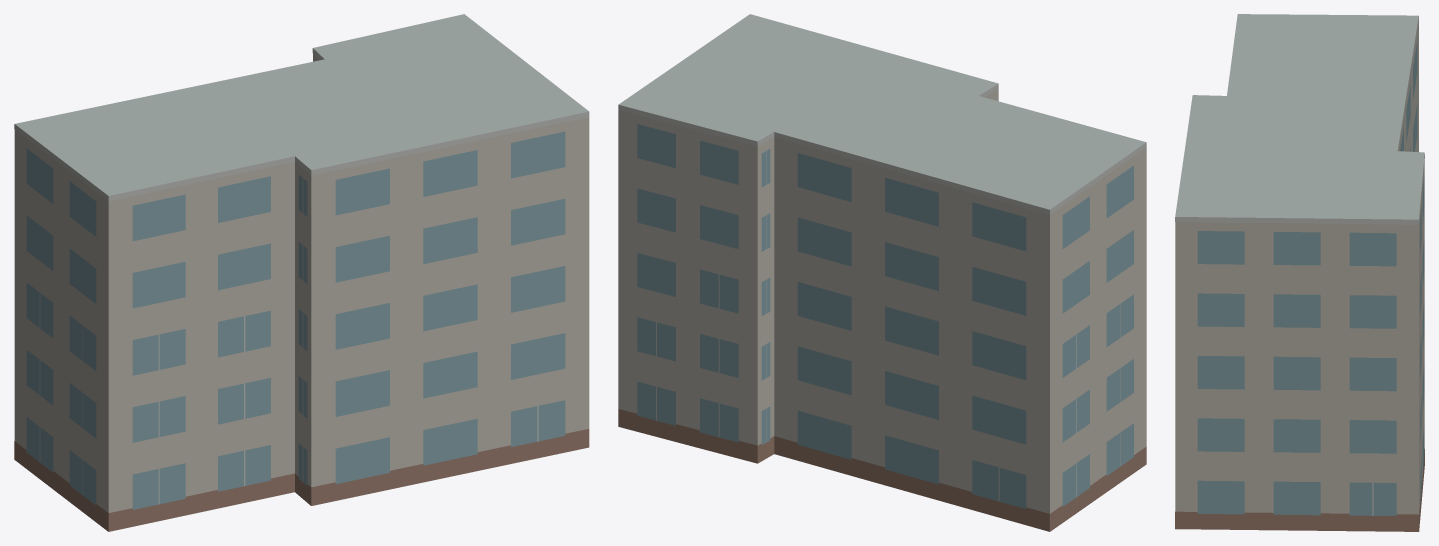
File: survey-upis-32835442.glb
3 views of the same model, side by side, from view 1: azimuth 30°, elevation 25°; view 2: azimuth 150°, elevation 25°; view 3: azimuth 270°, elevation 25° (orthographic). The views are drawn at different scales.
Visible parts, largest first — view 1: survey-upis-32835442.tmp; view 2: survey-upis-32835442.tmp; view 3: survey-upis-32835442.tmp.
Part boxes in pixels (left/top/right/bottom): survey-upis-32835442.tmp: left=14, top=14, right=589, bottom=531; survey-upis-32835442.tmp: left=618, top=14, right=1146, bottom=531; survey-upis-32835442.tmp: left=1175, top=14, right=1424, bottom=531.
Size of the model in its own units: 21.34 by 15.1 by 10.95.
